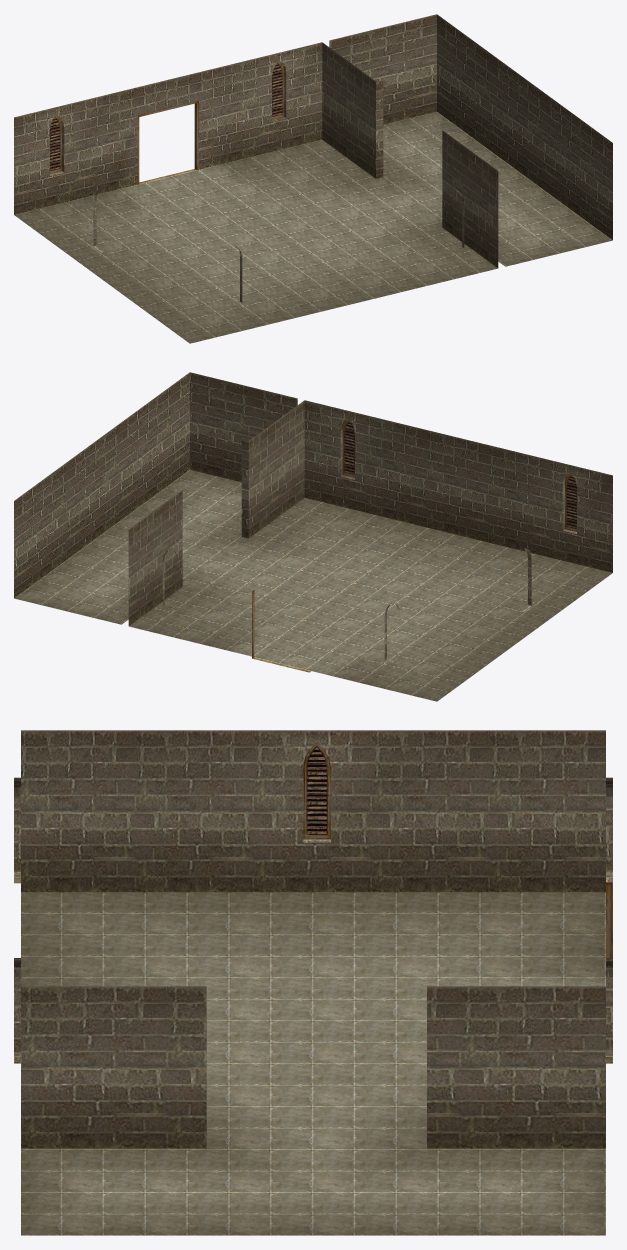
Rendered from M1_New_HutInt_01.glb.
3 views of the same model, one above another, from view 1: azimuth 30°, elevation 25°; view 2: azimuth 150°, elevation 25°; view 3: azimuth 270°, elevation 25° (orthographic). The views are drawn at different scales.
Parts seen in each view (by area): view 1: M1_NEW_HUTINT_01; view 2: M1_NEW_HUTINT_01; view 3: M1_NEW_HUTINT_01.
Part boxes in pixels (<box>): M1_NEW_HUTINT_01: <box>14,14,612,343</box>; M1_NEW_HUTINT_01: <box>14,372,612,701</box>; M1_NEW_HUTINT_01: <box>14,730,612,1235</box>.
Bounding box in the file's own units: 14.88 × 3.25 × 10.88.
Materials: 7 (7 with a texture image).
